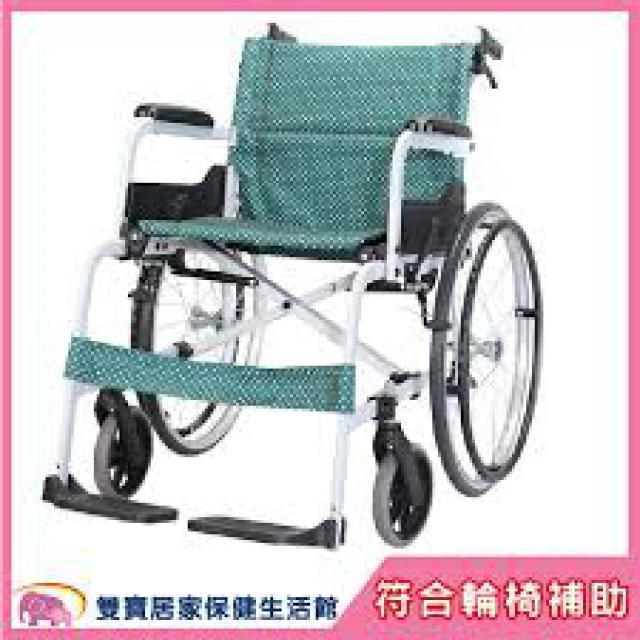wheelchairs: (50, 26, 550, 546)
